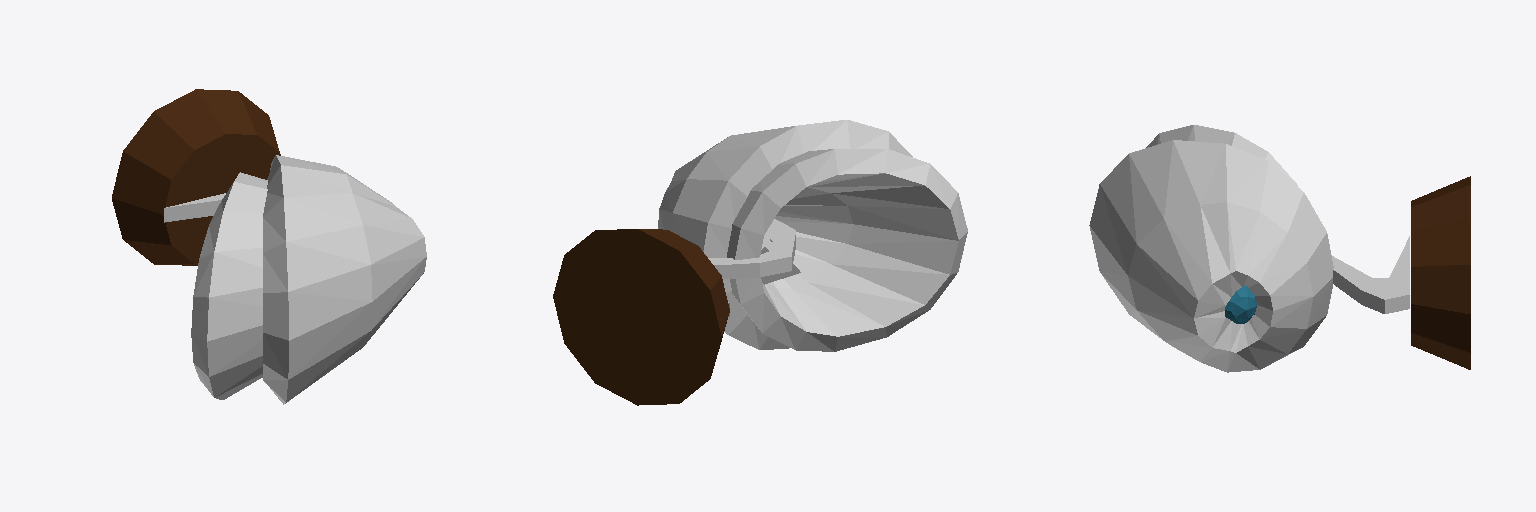
3 views of the same model, side by side, from view 1: azimuth 30°, elevation 25°; view 2: azimuth 150°, elevation 25°; view 3: azimuth 270°, elevation 25° (orthographic).
Parts seen in each view (by area): view 1: Cone_Cone_cover, Cylinder_Cylinder_Material.001, Cone.001_Cone.001_cover, Plane_Plane_Material.003; view 2: Cone.001_Cone.001_cover, Cylinder_Cylinder_Material.001, Cone_Cone_cover, Plane_Plane_Material.003; view 3: Cone_Cone_cover, Cylinder_Cylinder_Material.001, Plane_Plane_Material.003, Cone.001_Cone.001_cover, Icosphere_Icosphere_ball.
Part boxes in pixels (left/top/right/bottom): Cone_Cone_cover: left=263, top=155, right=426, bottom=404; Cylinder_Cylinder_Material.001: left=112, top=89, right=280, bottom=265; Cone.001_Cone.001_cover: left=191, top=172, right=267, bottom=399; Plane_Plane_Material.003: left=164, top=193, right=225, bottom=222; Cone.001_Cone.001_cover: left=727, top=149, right=967, bottom=351; Cylinder_Cylinder_Material.001: left=553, top=229, right=729, bottom=405; Cone_Cone_cover: left=658, top=120, right=912, bottom=349; Plane_Plane_Material.003: left=708, top=219, right=800, bottom=316; Cone_Cone_cover: left=1089, top=140, right=1333, bottom=372; Cylinder_Cylinder_Material.001: left=1411, top=176, right=1470, bottom=369; Plane_Plane_Material.003: left=1332, top=236, right=1409, bottom=313; Cone.001_Cone.001_cover: left=1146, top=125, right=1297, bottom=185; Icosphere_Icosphere_ball: left=1225, top=285, right=1256, bottom=323.
Bounding box in the file's own units: 1.68 × 1.4 × 2.17.
Materials: 4 (1 with a texture image).